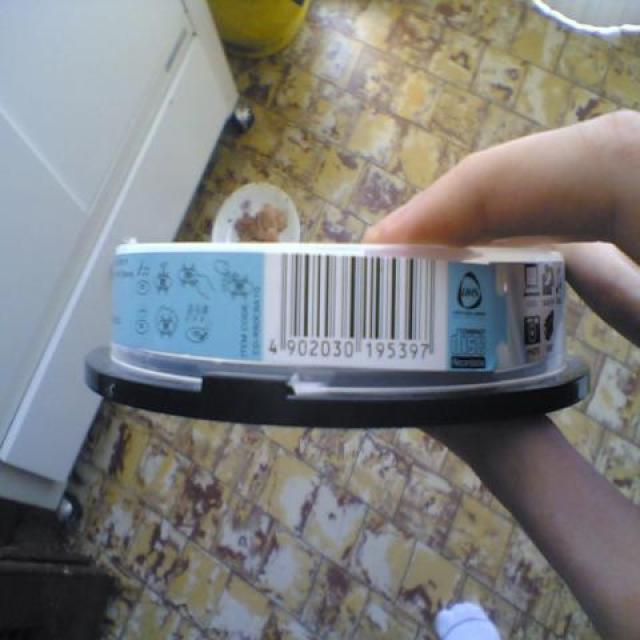Barcode: (264, 245, 447, 371)
